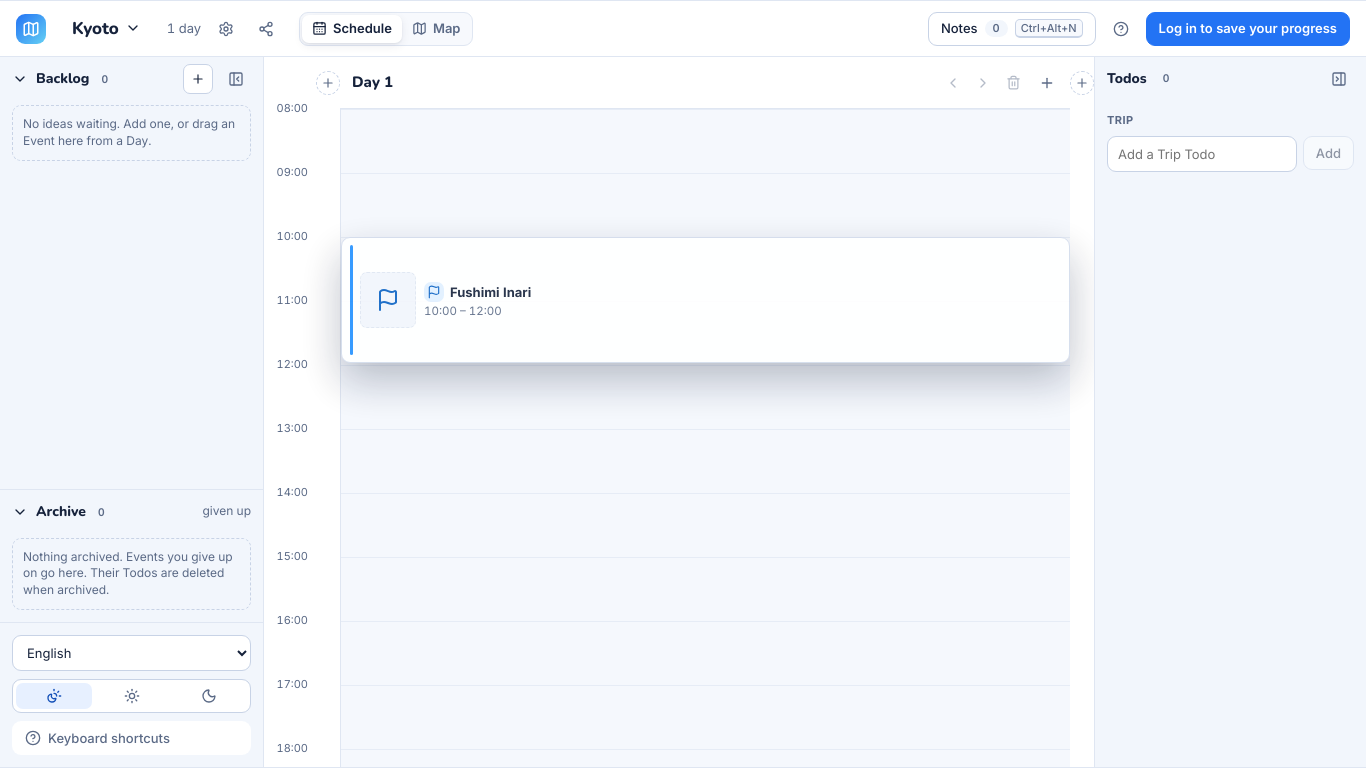
Scenario: one Trip at a time › the logo › asks first when the Event panel has an unsaved change
Click the text "Fushimi Inari": (491, 292) top-left (450, 284), bottom-right (531, 300)
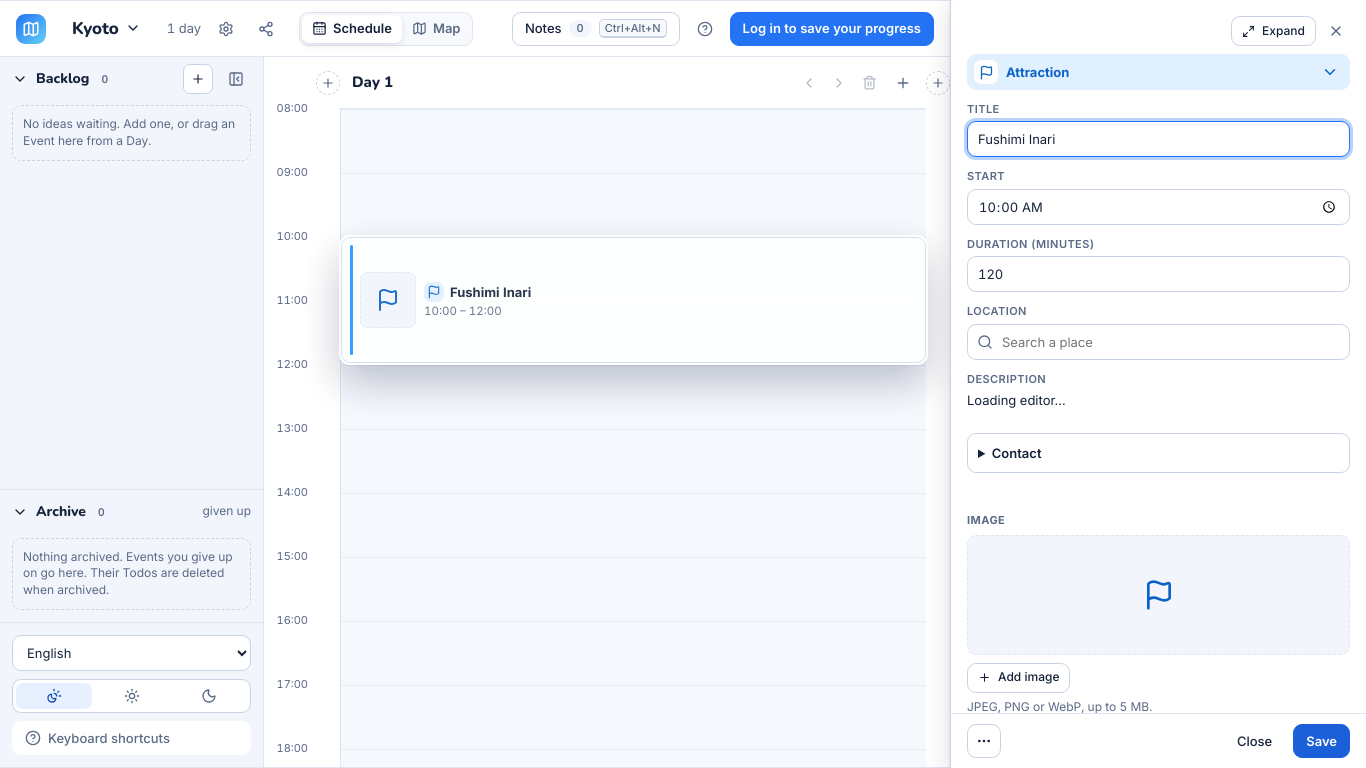
In the field labelled "Title": (1158, 139) top-left (967, 121), bottom-right (1350, 157), type " at dawn"
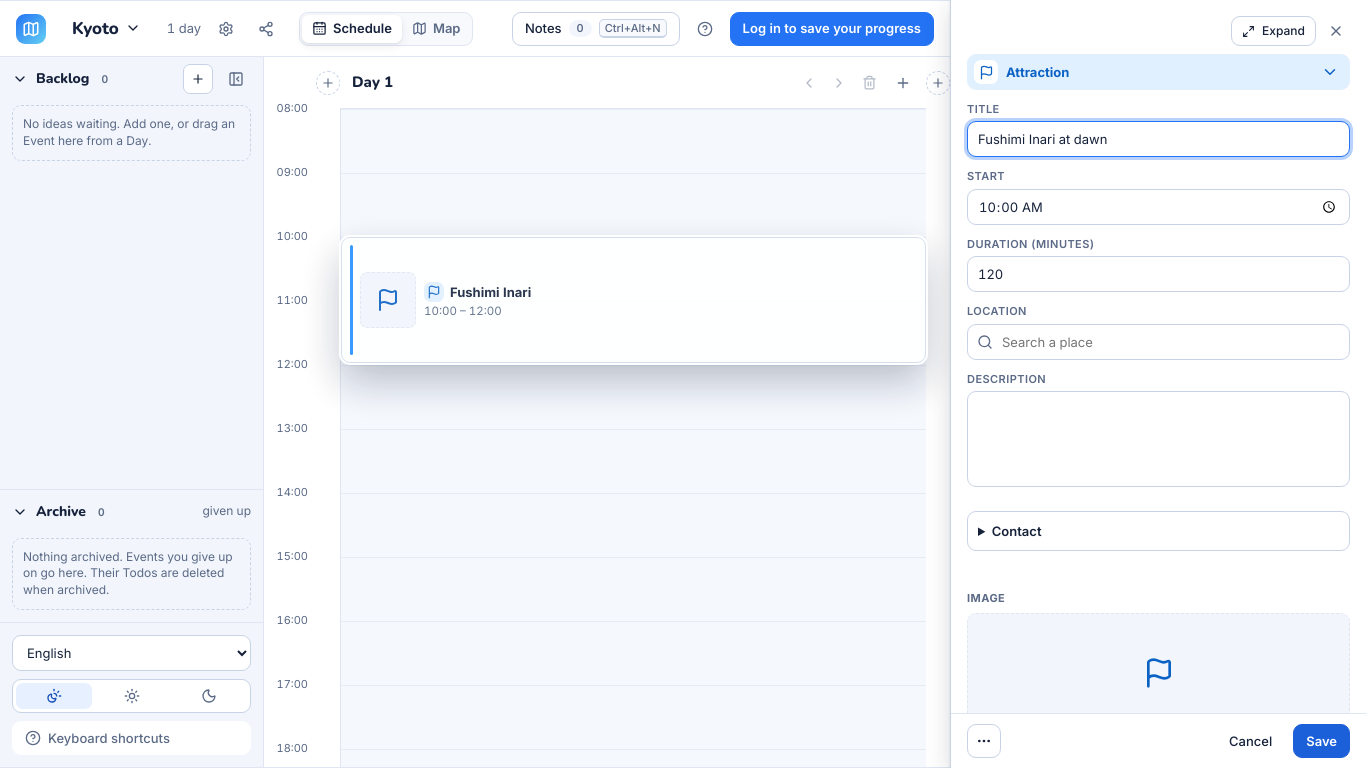
Click the link named "Home": (31, 28) top-left (16, 14), bottom-right (46, 44)
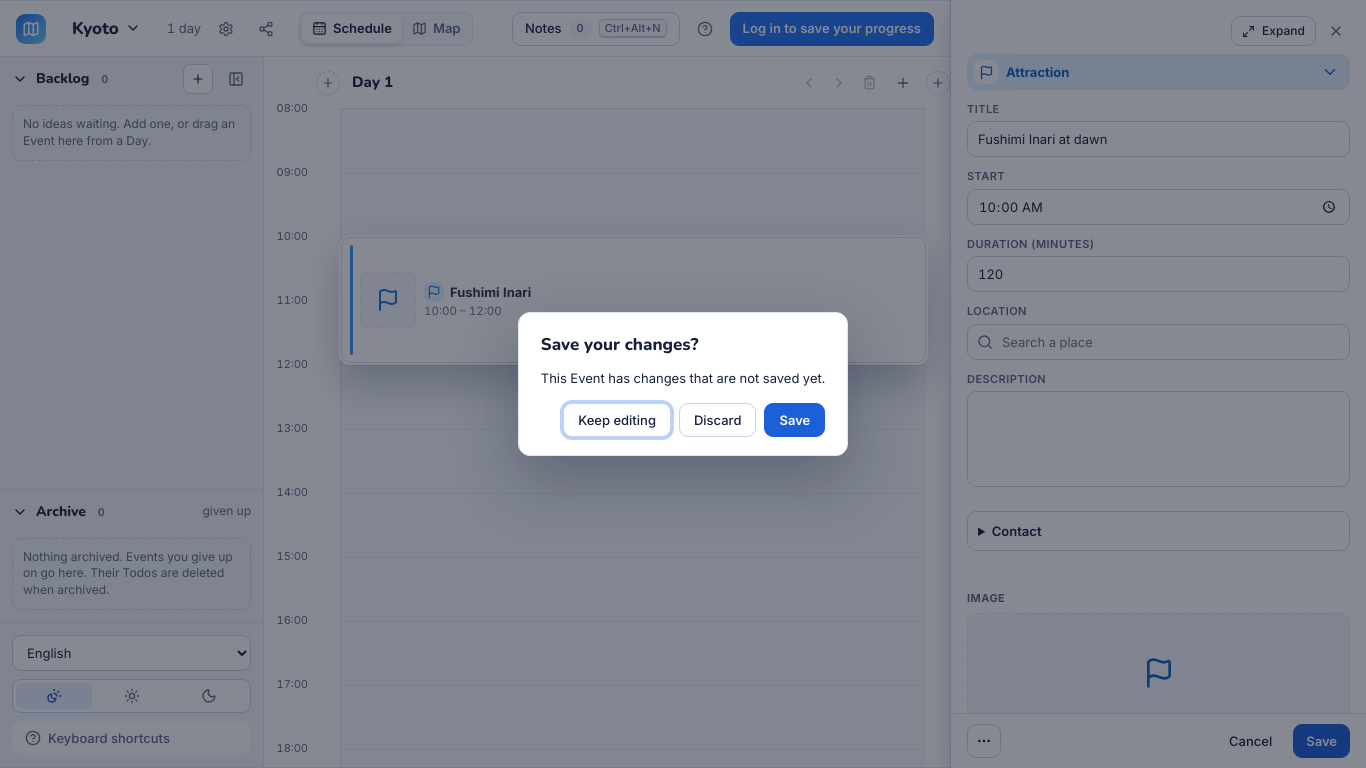
Expected: the heading "Save your changes?" is shown, top-left (541, 332), bottom-right (698, 356)
